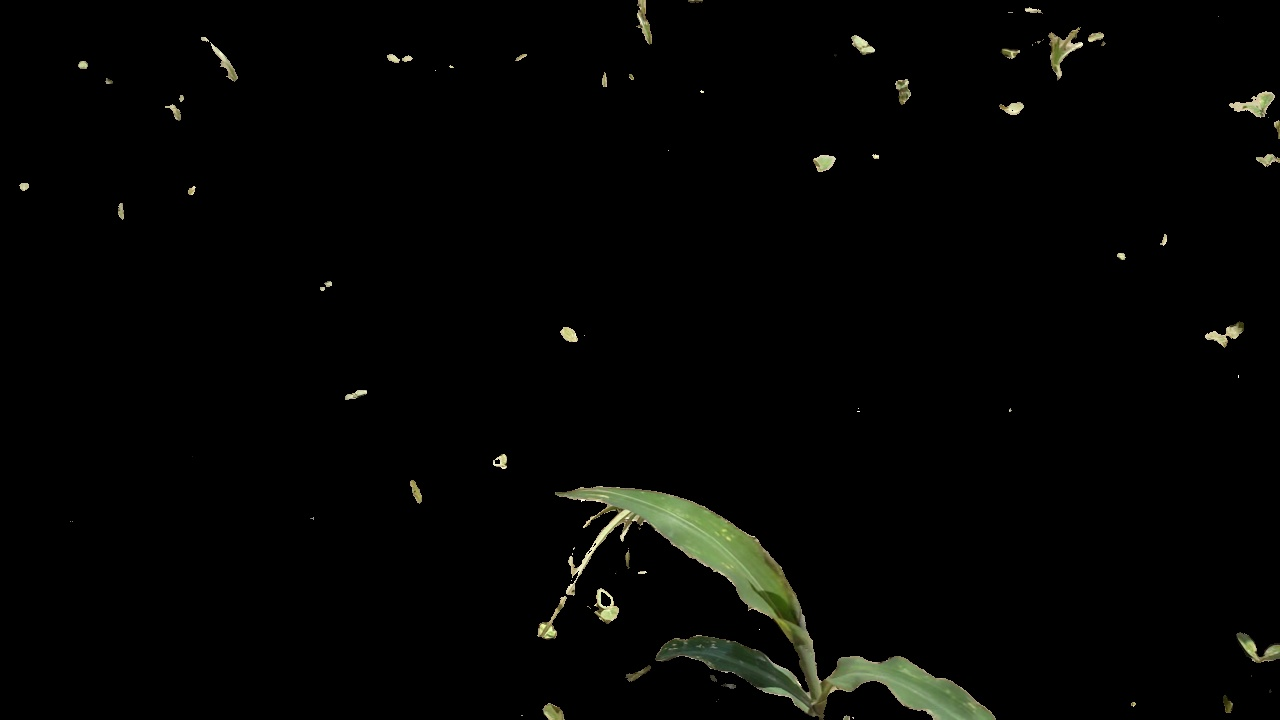crop: (542, 479, 1041, 720)
weed: (1206, 322, 1255, 358), (1223, 634, 1280, 664)
